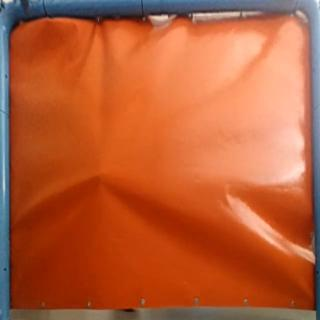Hit-hRxx: (97, 168, 110, 184)
